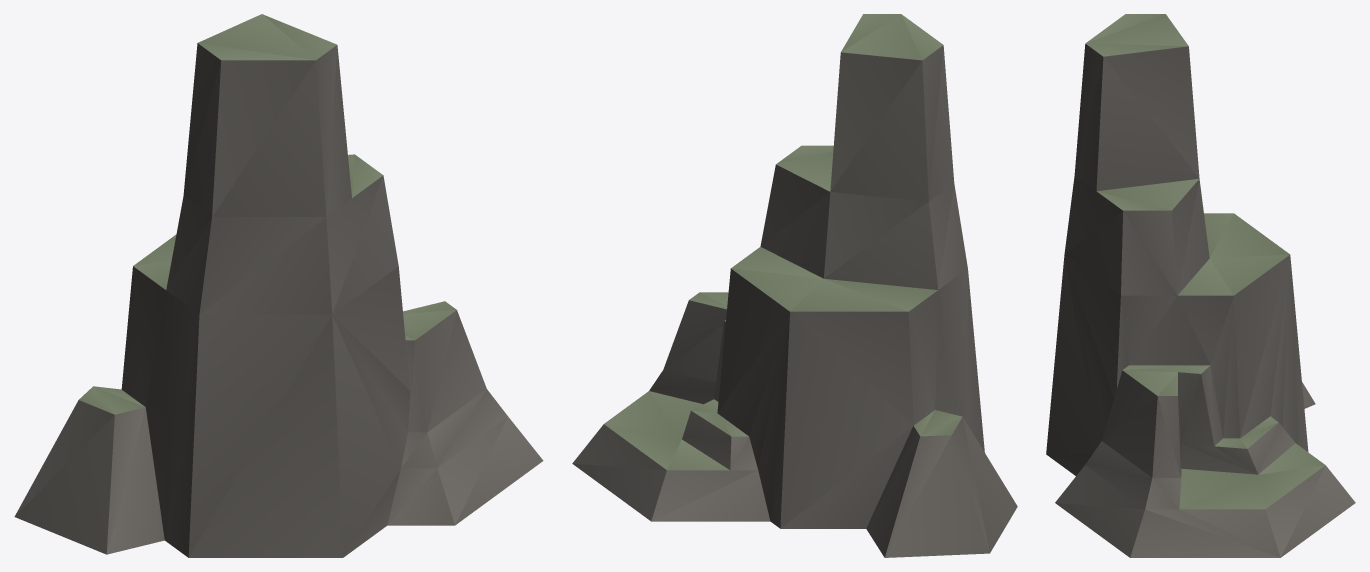
Rendered from rockC.glb.
3 views of the same model, side by side, from view 1: azimuth 30°, elevation 25°; view 2: azimuth 150°, elevation 25°; view 3: azimuth 270°, elevation 25° (orthographic). The views are drawn at different scales.
Parts seen in each view (by area): view 1: rock_tallA; view 2: rock_tallA; view 3: rock_tallA.
Boxes of the visible parts, x1=… form: rock_tallA: x1=14, y1=14, x2=543, y2=557; rock_tallA: x1=572, y1=14, x2=1017, y2=557; rock_tallA: x1=1046, y1=14, x2=1355, y2=557.
Size of the model in its own units: 0.983 by 0.9959 by 0.6832.
